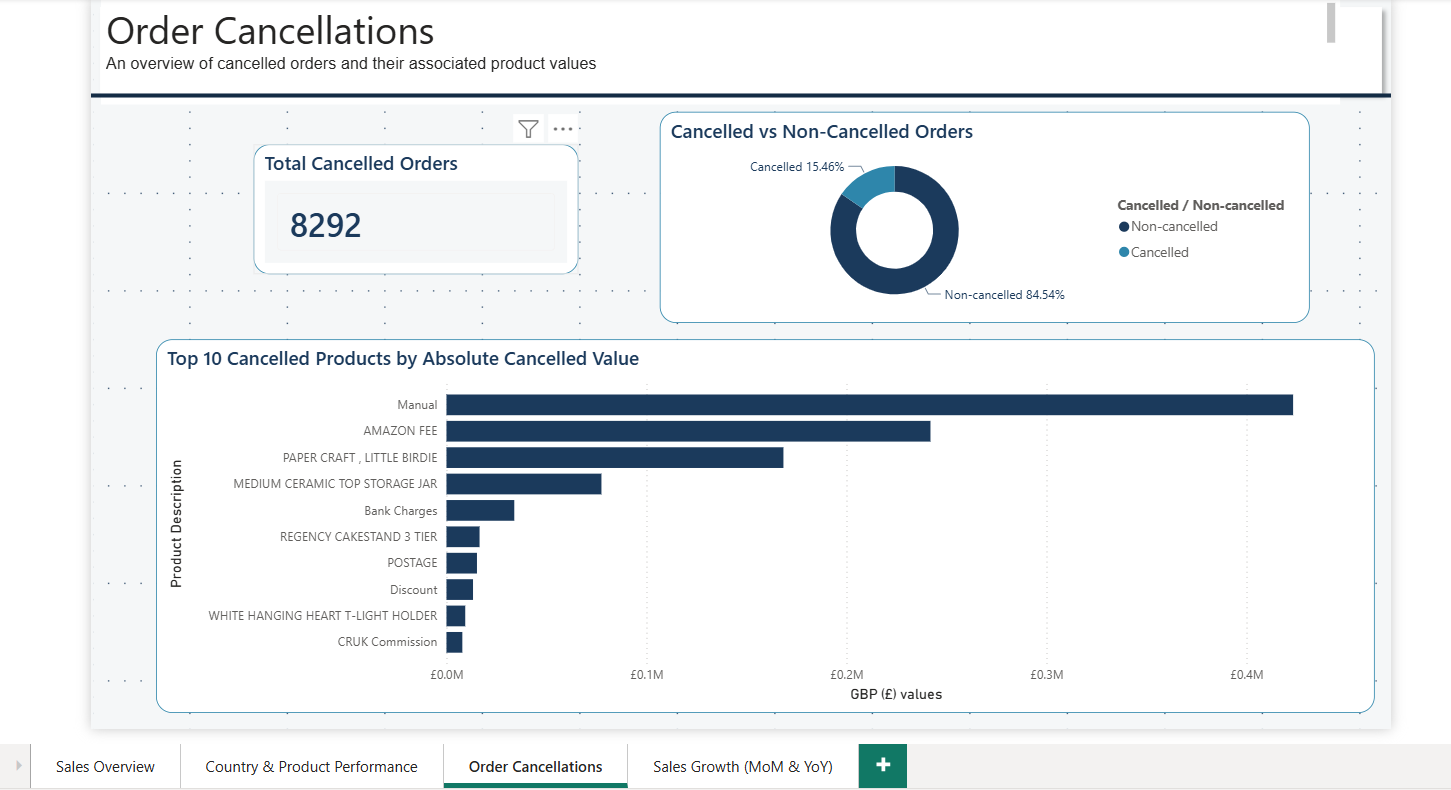

The page's visual inventory and layout, read from the dashboard file:
{"tool":"powerbi","page":{"name":"Order Cancellations","canvas":[1280,720],"ordinal":2},"visuals":[{"type":"cardVisual","title":"Total Cancelled Orders","fields":{"Data":["cancelled_orders.total_number_of_cancelled_orders"]},"box":[160,144,320,128],"z":0},{"type":"donutChart","title":"Cancelled vs Non-Cancelled Orders","fields":{"Category":["Order Status.Status"],"Y":["Order Status.Orders by Status"]},"box":[560,112,640,208],"z":1000},{"type":"clusteredBarChart","title":"Top 10 Cancelled Products by Absolute Cancelled Value","fields":{"Category":["cancelled_orders.description"],"Y":["cancelled_orders.absolute_total_price"]},"box":[64,336,1200,368],"z":2000},{"type":"shape","box":[0,0,1280,103],"z":3000},{"type":"textbox","box":[10,50,1220,54],"z":4000},{"type":"textbox","box":[10,0,1220,54.1],"z":5000},{"type":"shape","box":[0,64,1280,64],"z":6000}]}

Visuals, with their boxes on the page's 1280x720 design canvas (x1, y1, x2, y2). These are canvas units, not pixel positions in the 1451x790 screenshot, which may show the page scaled, cropped or inside an application window:
"Total Cancelled Orders" cardVisual: [160,144,480,272]
"Cancelled vs Non-Cancelled Orders" donutChart: [560,112,1200,320]
"Top 10 Cancelled Products by Absolute Cancelled Value" clusteredBarChart: [64,336,1264,704]
shape: [0,0,1280,103]
textbox: [10,50,1230,104]
textbox: [10,0,1230,54]
shape: [0,64,1280,128]
